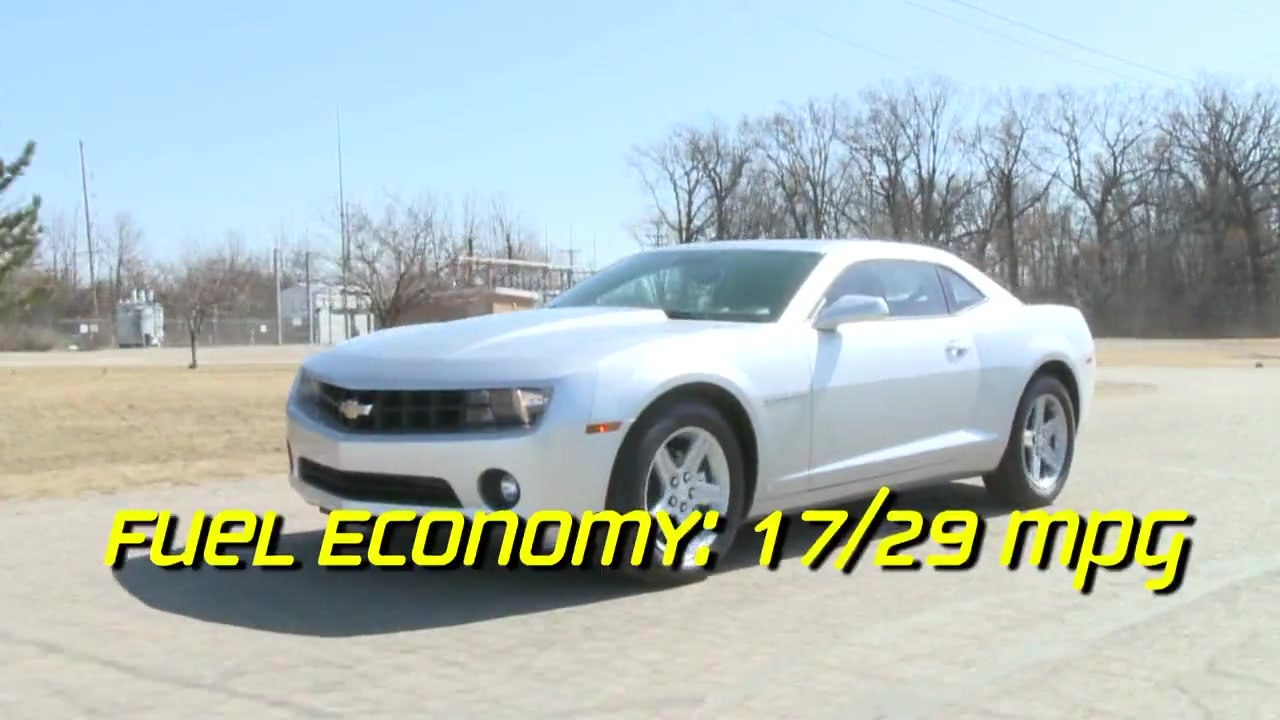car: (281, 233, 1099, 580)
